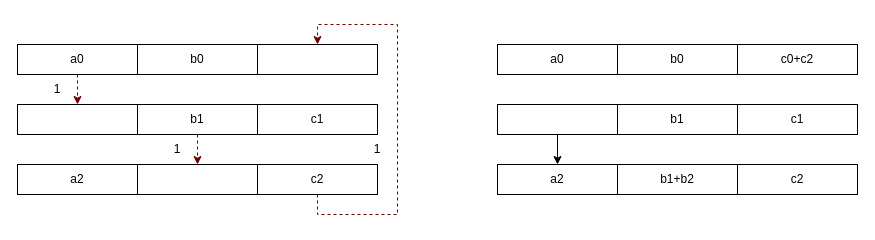
Some shapes in this 875 by 240 pixel diagram are drawn without their labels. Each missing label, with the box of its shape:
a0+a1: (496, 104, 618, 134)
a1: (16, 104, 138, 134)
b2: (136, 164, 258, 194)
c0: (256, 44, 378, 74)
